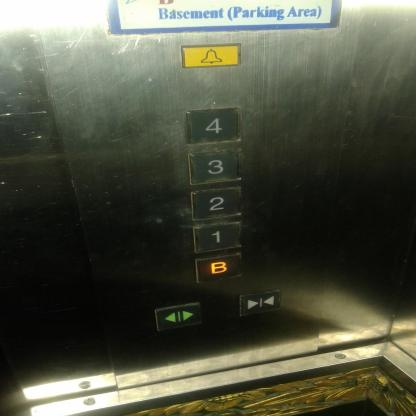1: (190, 220, 244, 254)
2: (188, 185, 244, 222)
3: (186, 147, 244, 186)
4: (183, 105, 242, 146)
B: (193, 252, 243, 284)
alarm: (178, 42, 243, 70)
close: (236, 288, 283, 318)
open: (151, 300, 204, 333)
